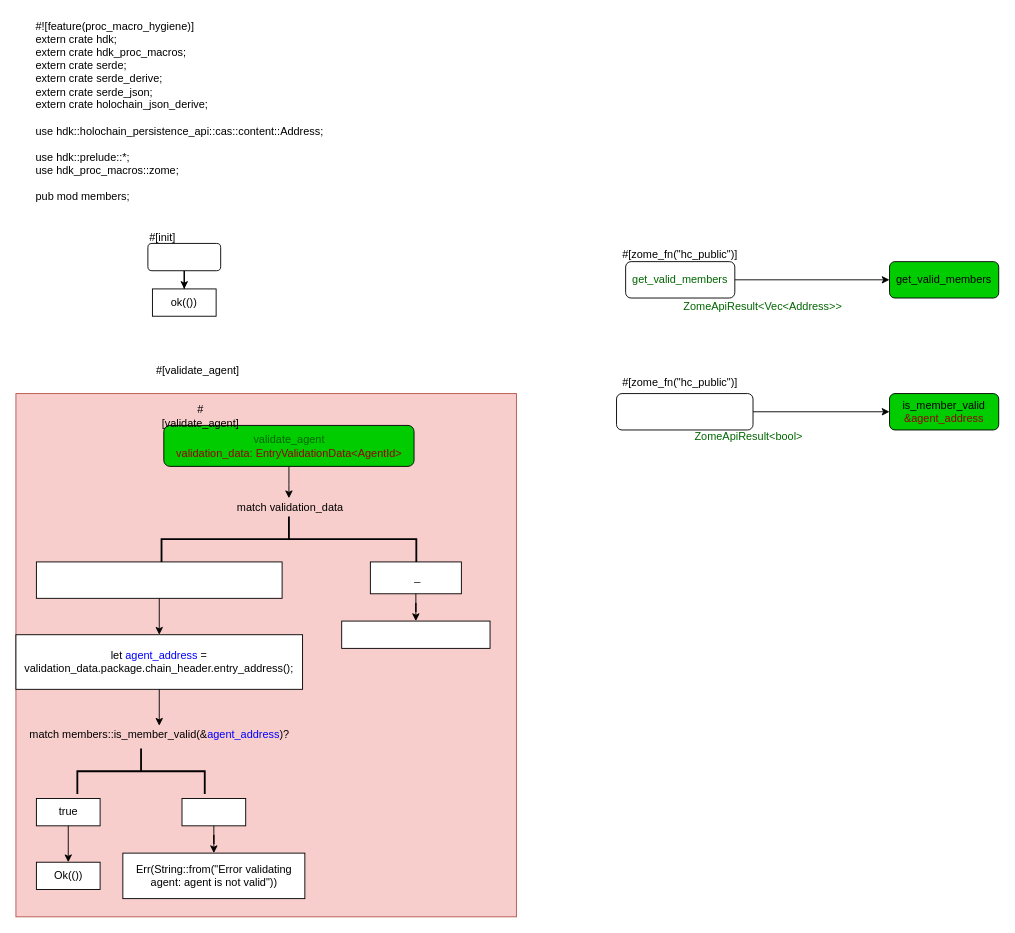
The diagram is 1015 pixels wide and 933 high, and some of its shapes have lost their labels. Each missing label, with the box of its shape:
EntryValidationData::Create { validation_data, .. }: (35, 561, 282, 598)
Err(String::from("Error validating agent")): (341, 620, 490, 648)
false: (181, 798, 246, 826)
init: (147, 243, 221, 271)
is_member_valid agent_address: Address: (616, 393, 753, 430)
